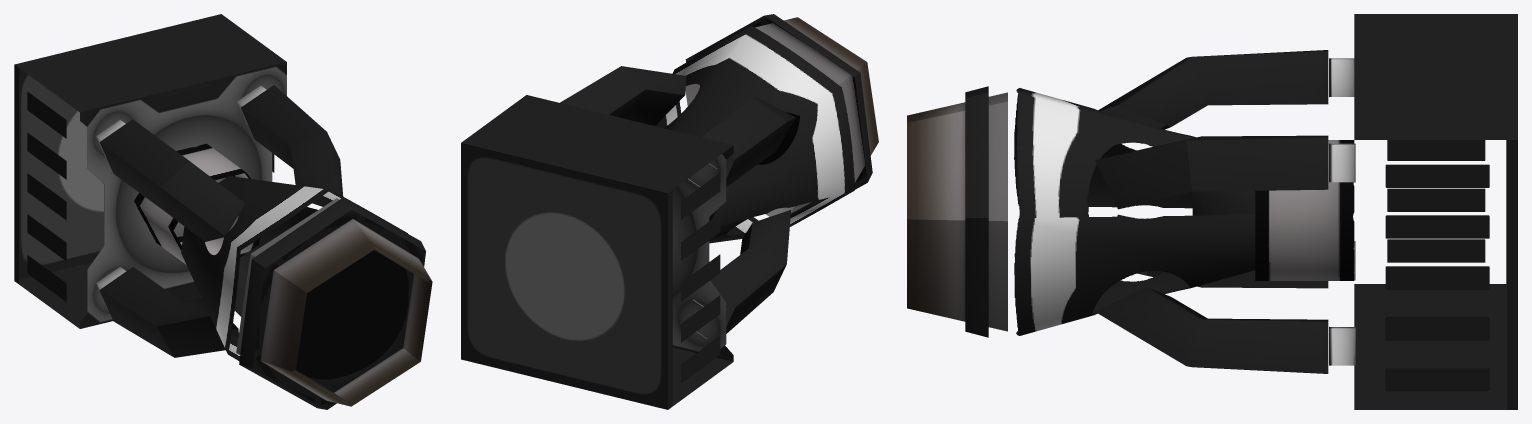
Rendered from obj_interactive_thruster_03_lod1.fbx.
3 views of the same model, side by side, from view 1: azimuth 30°, elevation 25°; view 2: azimuth 150°, elevation 25°; view 3: azimuth 270°, elevation 25° (orthographic). The views are drawn at different scales.
Parts seen in each view (by area): view 1: polySurface35; view 2: polySurface35; view 3: polySurface35.
Boxes of the visible parts, x1,y1,x2,y2 form: polySurface35: [14, 14, 432, 409]; polySurface35: [461, 14, 878, 409]; polySurface35: [907, 14, 1517, 409].
Size of the model in its own units: 2 by 2 by 4.1.
Materials: 1 (1 with a texture image).
